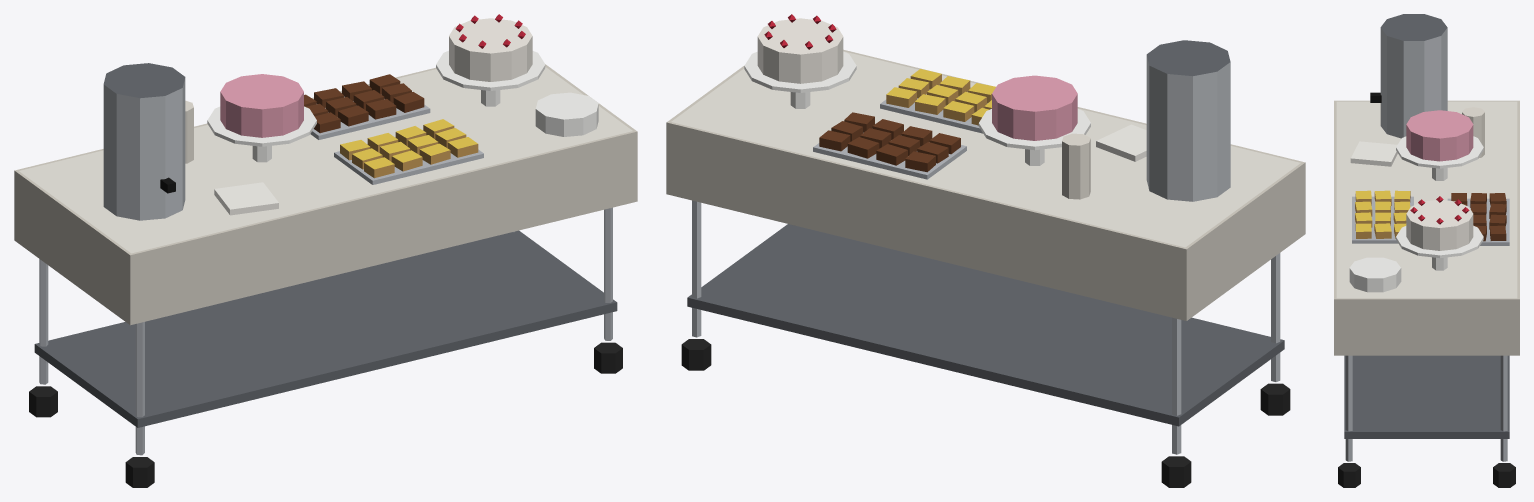
Rendered from DessertCart.obj.
The picture shows the model from 3 angles, left to right: view 1: azimuth 30°, elevation 25°; view 2: azimuth 150°, elevation 25°; view 3: azimuth 270°, elevation 25°; orthographic projection. The views are drawn at different scales.
Visible parts, largest first — view 1: DessertCart; view 2: DessertCart; view 3: DessertCart.
Part boxes in pixels (x1,y1,x2,y2): DessertCart: (14,14,637,487); DessertCart: (666,14,1305,487); DessertCart: (1334,14,1519,487).
Size of the model in its own units: 1.82 by 1.24 by 0.72.
1 material, 1 textured.
